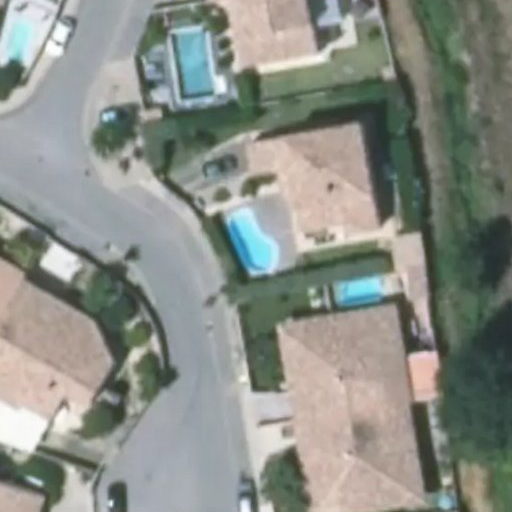pool: (219, 230, 285, 257)
